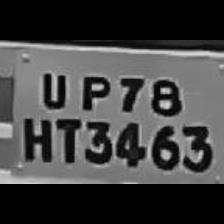3: (178, 120, 212, 172), (80, 114, 112, 166)
4: (112, 115, 144, 167)
6: (148, 122, 180, 172)
7: (112, 69, 144, 114)
8: (145, 71, 185, 117)
H: (19, 114, 53, 164)
P: (73, 68, 113, 112)
T: (52, 114, 80, 166)
U: (34, 64, 72, 108)
